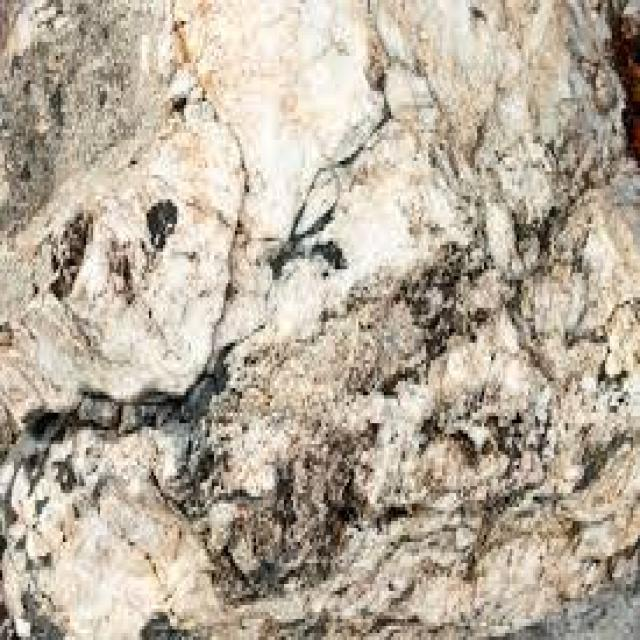Metamorphic: (2, 4, 631, 636)
